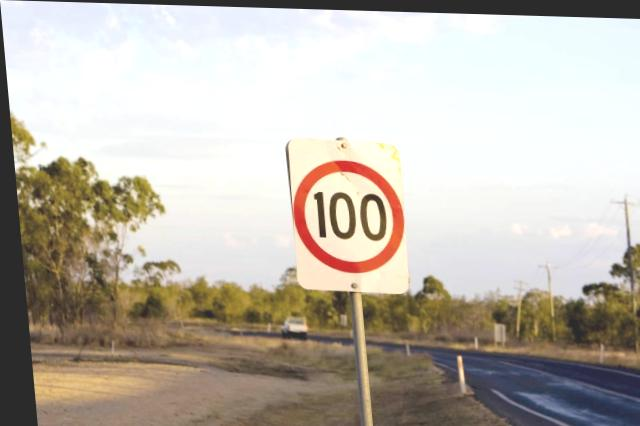limit100: (283, 154, 406, 276)
